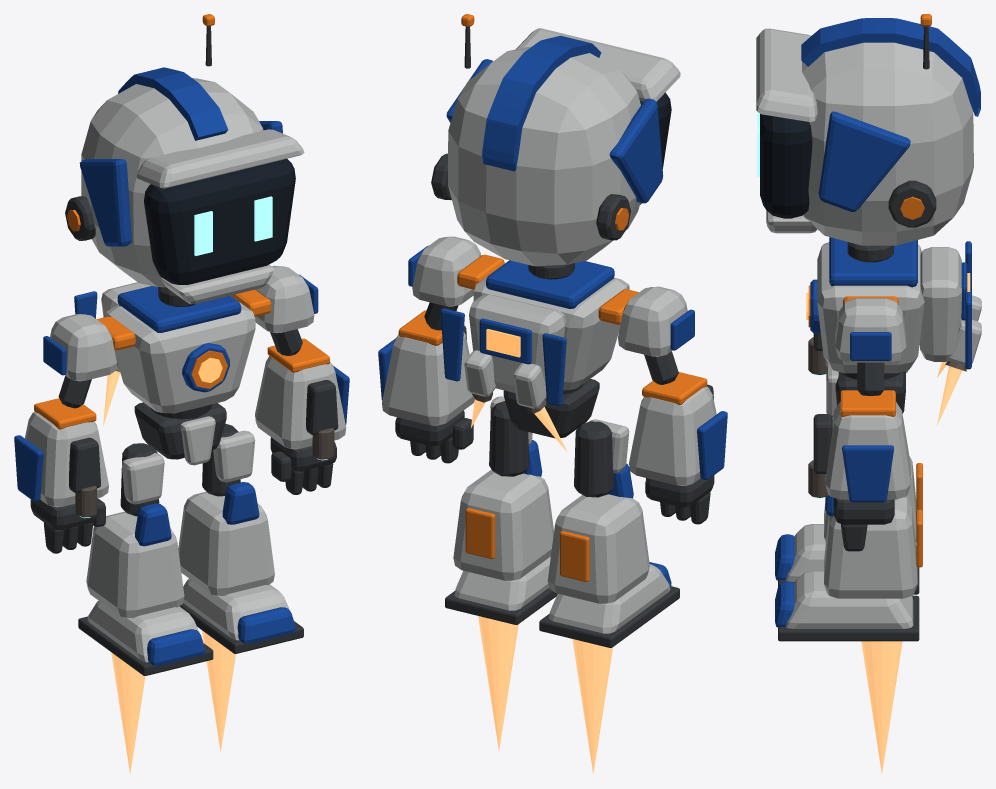
File: robo_v2.glb
3 renders of one model, left to right at view 1: azimuth 30°, elevation 25°; view 2: azimuth 150°, elevation 25°; view 3: azimuth 270°, elevation 25°, orthographic. The views are drawn at different scales.
Visible parts, largest first — view 1: visor, cabeca_p, tronco_p, bota.001, bota, testa, antebraco, antebraco.001, placa_lado.001, ombro_p.001, crista, pe.001 (+38 smaller); view 2: cabeca_p, bota.001, bota, antebraco.001, antebraco, crista, tronco_p, mochila, gola, ombro_p.001, pe.001, placa_lado.001 (+31 smaller); view 3: cabeca_p, bota, placa_lado, visor, tronco_p, crista, pe, testa, antebraco, mochila, gola, ombro_p (+26 smaller).
Part boxes in pixels (box(x1,y1,x2,y2)): visor: box(144, 158, 295, 284); cabeca_p: box(81, 78, 263, 287); tronco_p: box(106, 296, 255, 413); bota.001: box(86, 511, 184, 618); bota: box(178, 491, 274, 595); testa: box(136, 129, 304, 188); antebraco: box(255, 356, 346, 449); antebraco.001: box(25, 411, 108, 507); placa_lado.001: box(79, 159, 131, 246); ombro_p.001: box(50, 314, 116, 381); crista: box(118, 67, 228, 140); pe.001: box(87, 600, 203, 662); cabeca_p: box(448, 47, 640, 266); bota.001: box(547, 494, 649, 603); bota: box(453, 469, 553, 580); antebraco.001: box(629, 386, 716, 485); antebraco: box(382, 331, 474, 425); crista: box(482, 35, 601, 171); tronco_p: box(473, 261, 629, 390); mochila: box(469, 294, 566, 392); gola: box(486, 260, 614, 308); ombro_p.001: box(618, 286, 687, 356); pe.001: box(548, 564, 670, 633); placa_lado.001: box(609, 98, 663, 203); cabeca_p: box(802, 42, 973, 245); bota: box(824, 497, 917, 598); placa_lado: box(818, 111, 910, 211); visor: box(760, 114, 812, 218); tronco_p: box(817, 242, 924, 373); crista: box(801, 18, 980, 116); pe: box(785, 571, 913, 628); testa: box(756, 28, 817, 121); antebraco: box(825, 402, 910, 499); mochila: box(919, 247, 961, 361); gola: box(829, 237, 917, 287); ombro_p: box(835, 298, 906, 362).
Bounding box in the file's own units: 0.692 × 1.52 × 0.4066.
